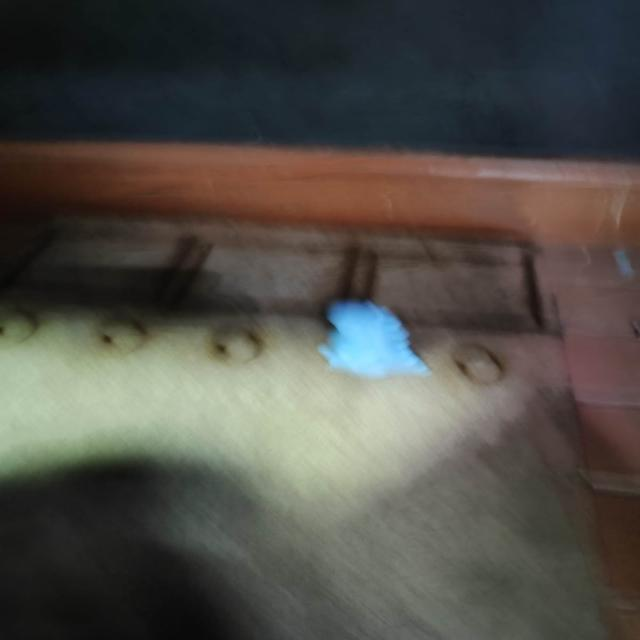DINO: (316, 280, 452, 382)
